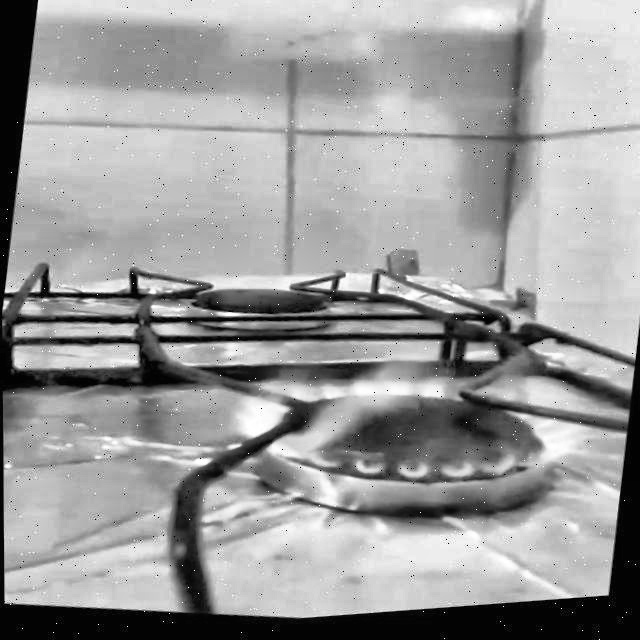Fire: (218, 298, 599, 514)
